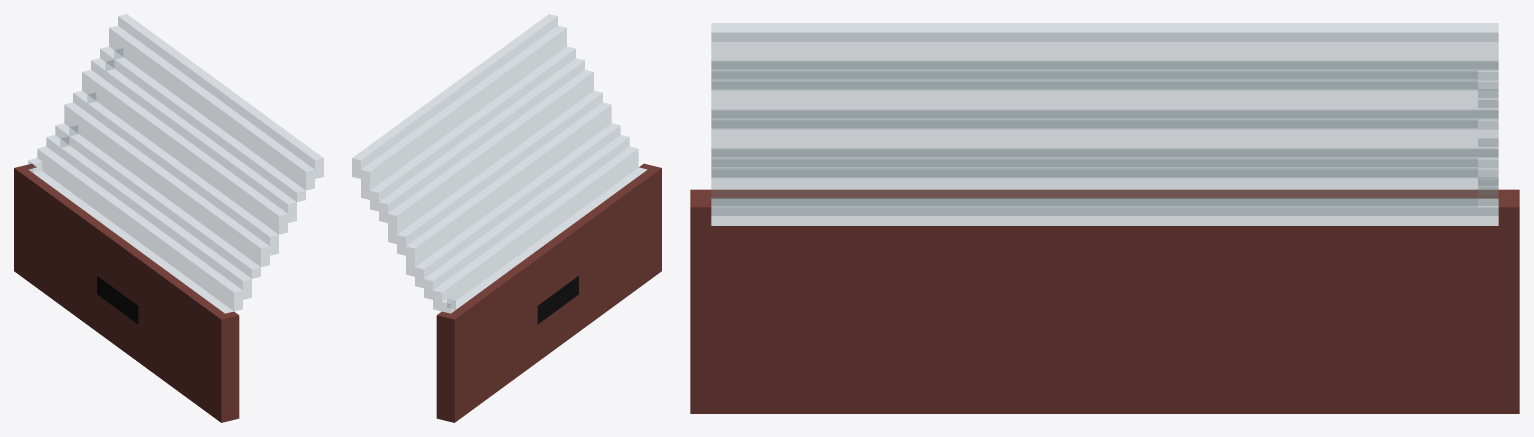
Rendered from hatchback_tailgate.glb.
3 renders of one model, left to right at view 1: azimuth 30°, elevation 25°; view 2: azimuth 150°, elevation 25°; view 3: azimuth 270°, elevation 25°, orthographic. The views are drawn at different scales.
Visible parts, largest first — view 1: body:compound; view 2: body:compound; view 3: body:compound.
Boxes of the visible parts, box(x1,y1,x2,y2) form: body:compound: box(14, 14, 323, 422); body:compound: box(352, 14, 661, 422); body:compound: box(690, 23, 1519, 413).
Bounding box in the file's own units: 0.375 × 0.7812 × 1.25.
